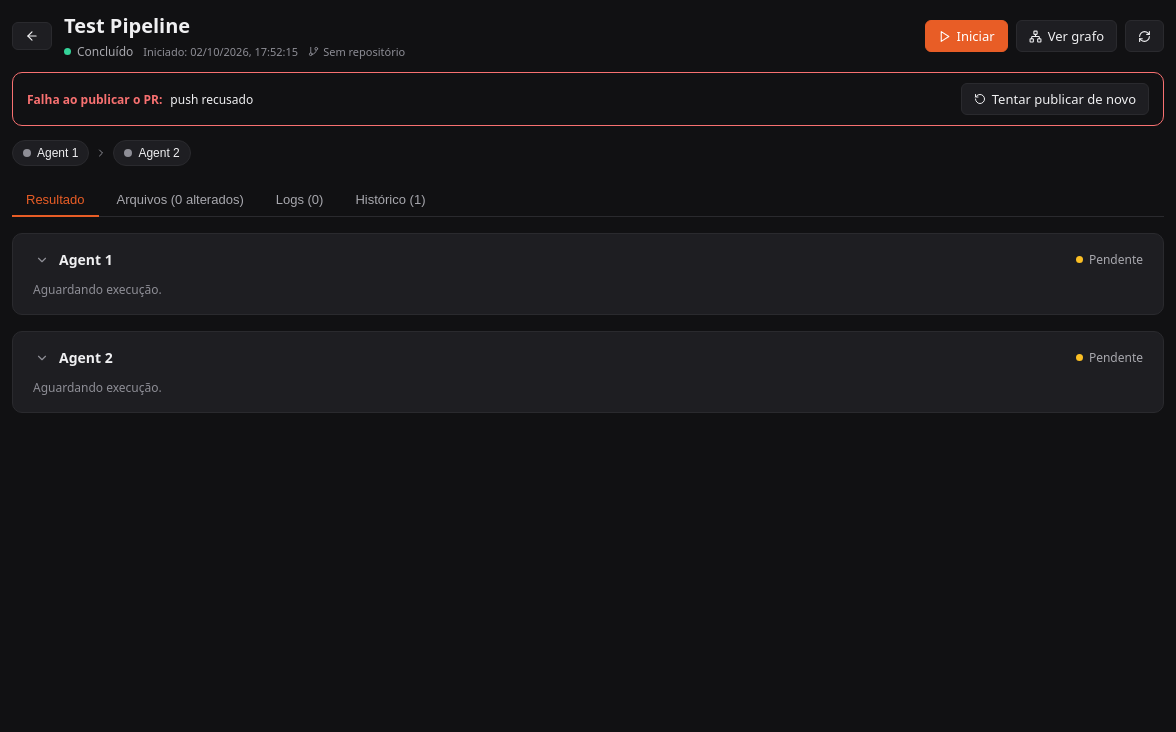
Test case: PipelineMonitor › retries publishing via POST /api/runs/{id}/publish and shows the PR
Expected: the message shows "push recusado", [170, 91, 253, 108]
Click the button "Tentar publicar de novo": x=1055, y=99 [961, 83, 1149, 115]
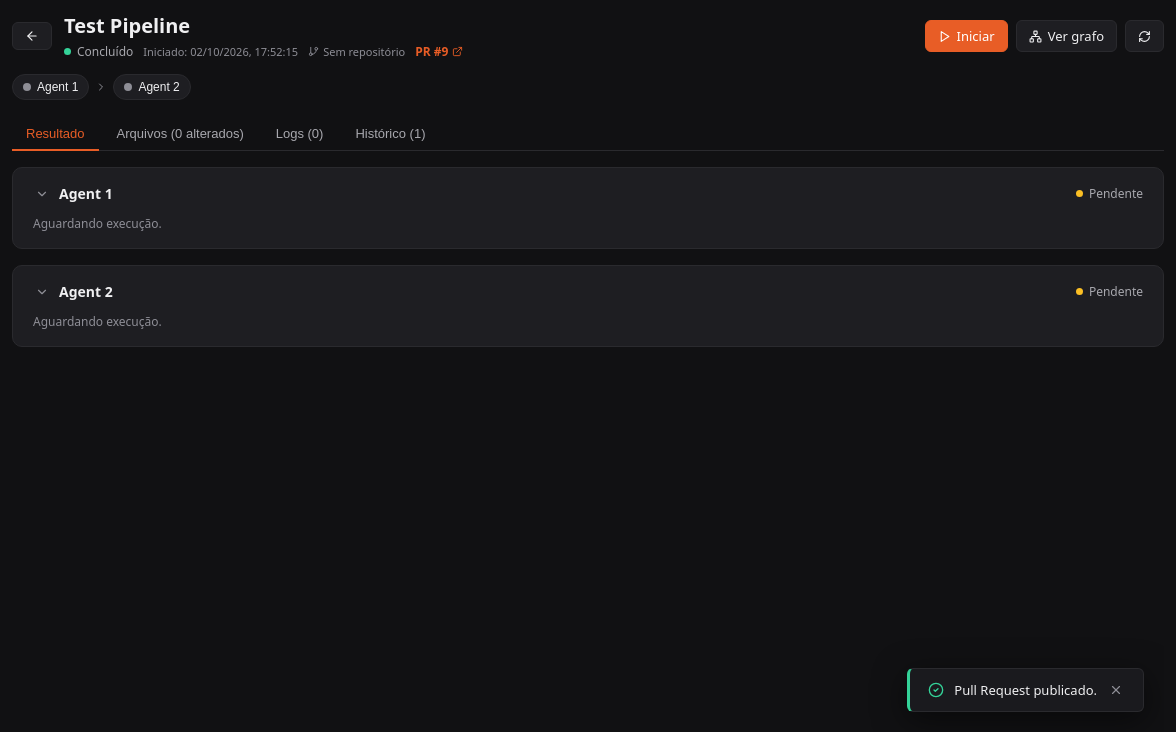
Result: the link "PR #9" is shown at [415, 43, 464, 60]
